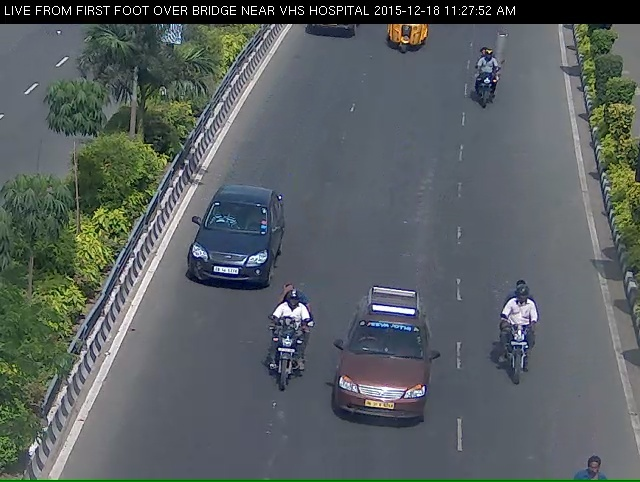Auto: (381, 17, 429, 59)
Car: (342, 305, 435, 448), (174, 189, 280, 305)
Person: (493, 288, 552, 404), (258, 301, 309, 415), (466, 46, 507, 122)
